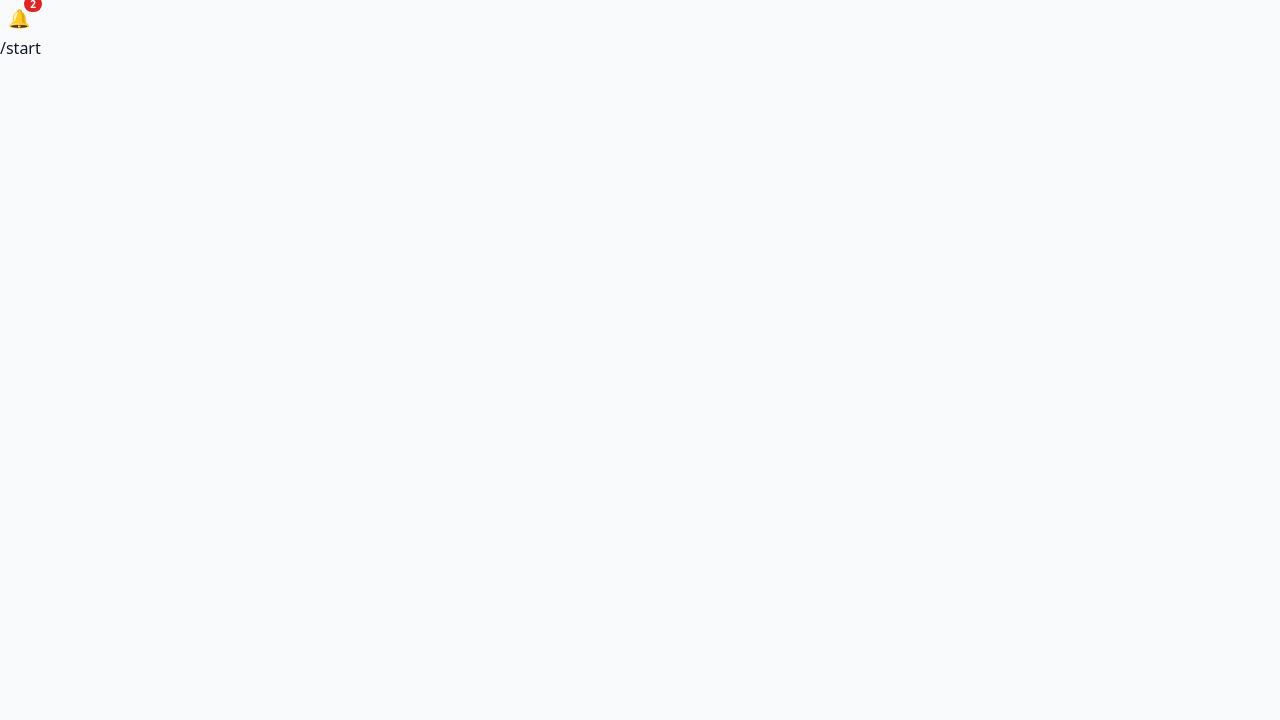
Test: opening the panel lists notifications; clicking one marks it read and goes to the finding
This screenshot has width=1280, height=720.
Click the button named "Notifications, 2 unread": (19, 18) [0,0,38,36]
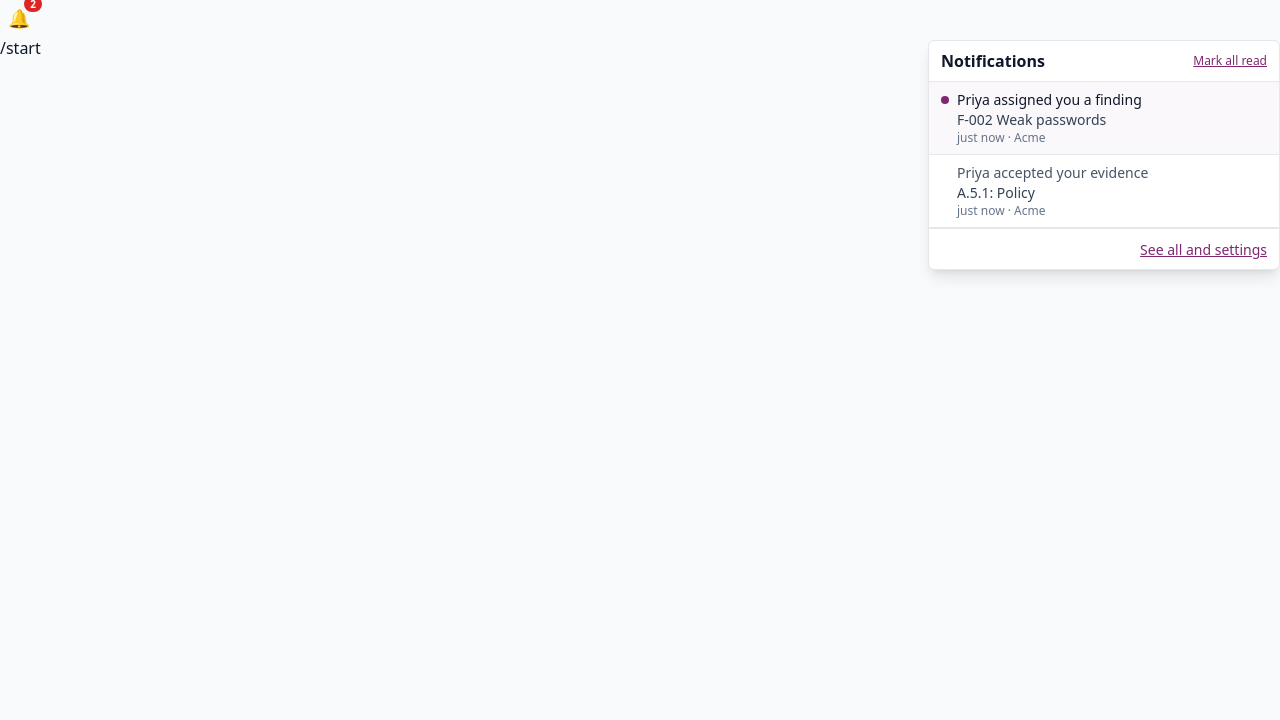
Check: the text "Priya assigned you a finding" is shown, box [957,90,1142,109]
Check: the text "F-002 Weak passwords" is shown
Check: the text "A.5.1: Policy" is shown, box [957,183,1035,202]
Click the text "F-002 Weak passwords": (1032, 120) [957,110,1106,129]
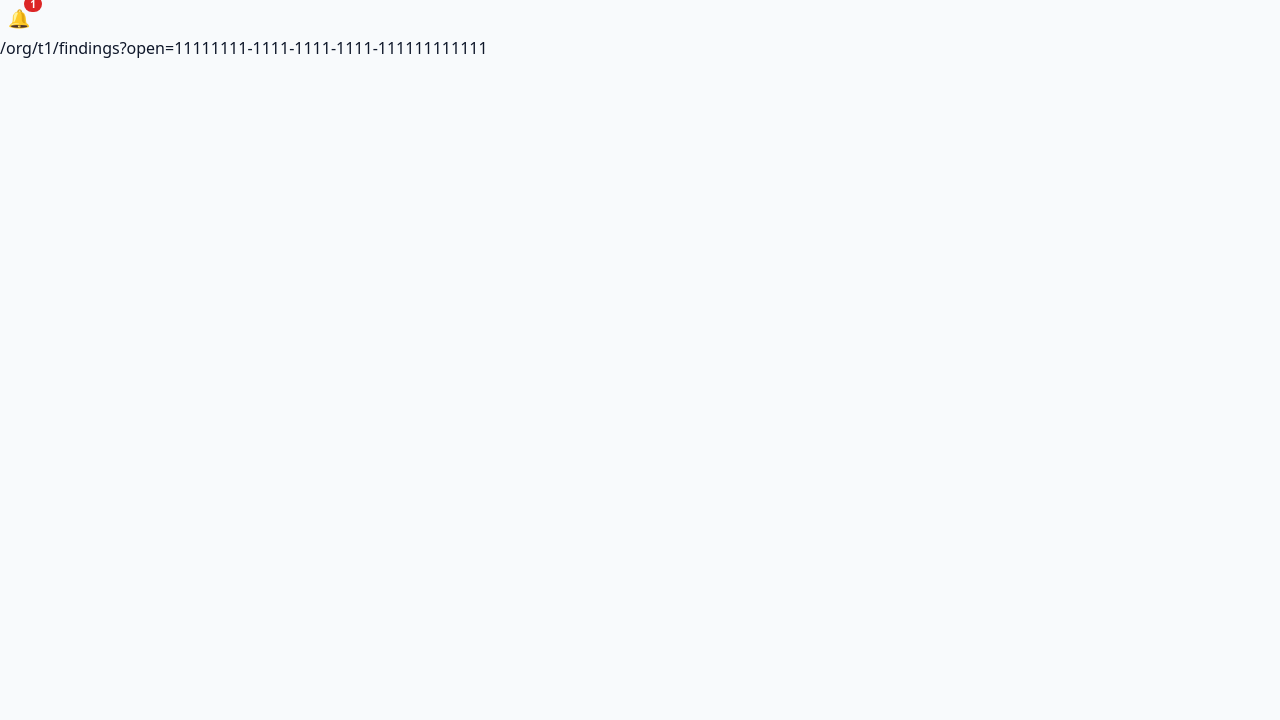
Check: the text with test id "where" reads "/org/t1/findings?open=11111111-1111-1111-1111-111111111111", box [0,37,488,59]
Check: the dialog is gone
